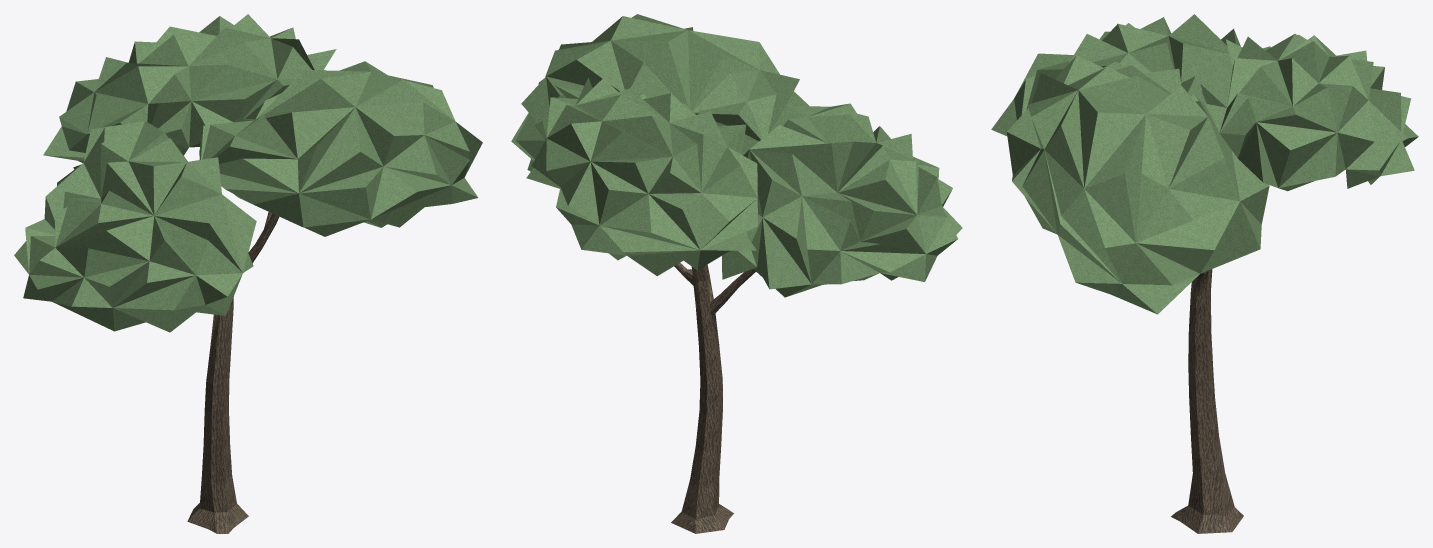
File: capalta-tree-sl-sale.glb
3 renders of one model, left to right at view 1: azimuth 30°, elevation 25°; view 2: azimuth 150°, elevation 25°; view 3: azimuth 270°, elevation 25°, orthographic. The views are drawn at different scales.
Visible parts, largest first — view 1: foliage_-_low, trunk; view 2: foliage_-_low, trunk; view 3: foliage_-_low, trunk.
Part boxes in pixels (<box>): foliage_-_low: <box>14,14,482,332</box>; trunk: <box>187,212,279,533</box>; foliage_-_low: <box>511,14,962,297</box>; trunk: <box>671,263,755,533</box>; foliage_-_low: <box>991,14,1418,314</box>; trunk: <box>1171,269,1243,533</box>.
Bounding box in the file's own units: 10.94 × 10.82 × 8.62.
2 materials, 2 textured.
